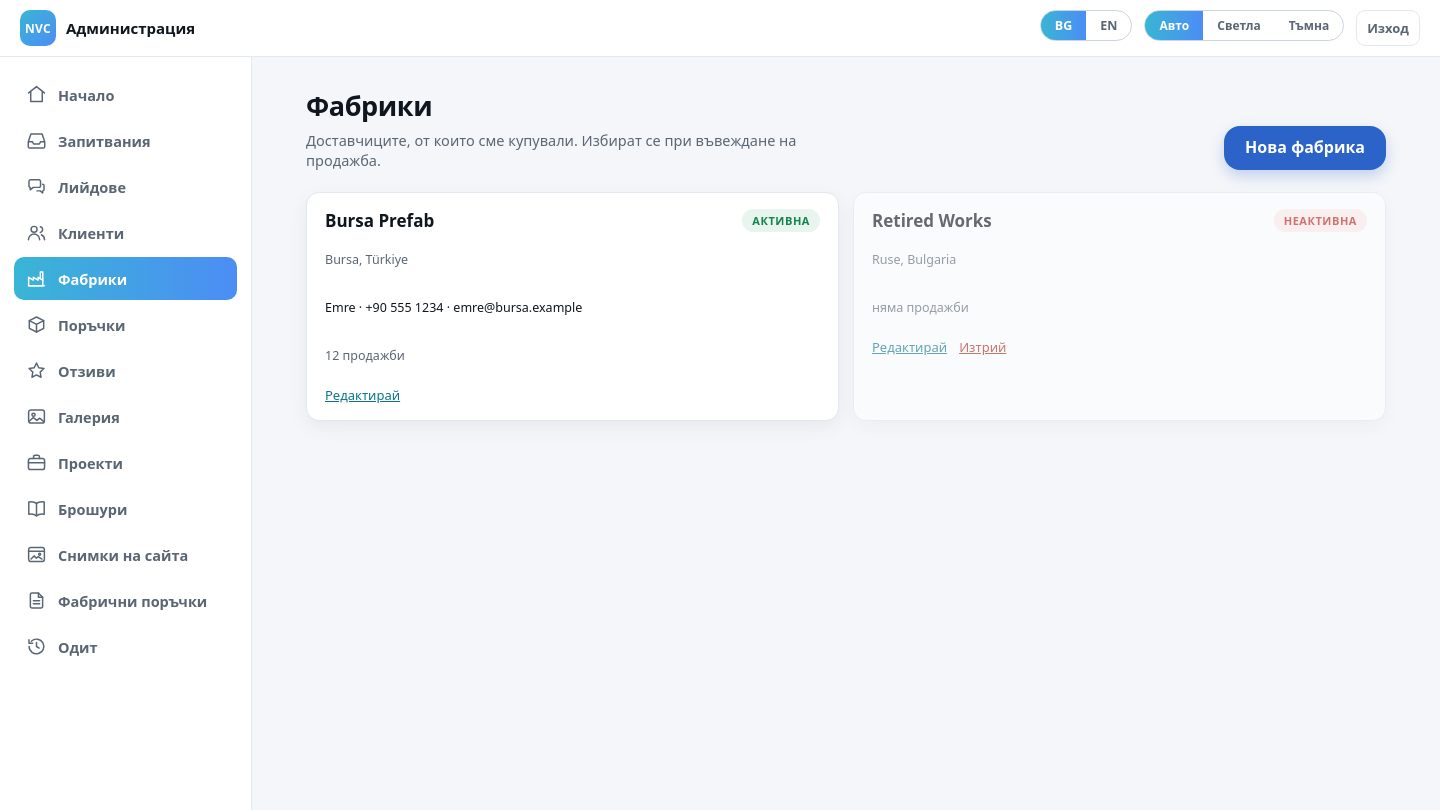
AdminFactoriesPage › a refused save keeps the editor, the typing and the reason
Expected: the heading "Bursa Prefab" is shown, top-left (325, 209), bottom-right (434, 232)
Click the button "Нова фабрика" at (1305, 148), box top-left (1224, 126), bottom-right (1386, 170)
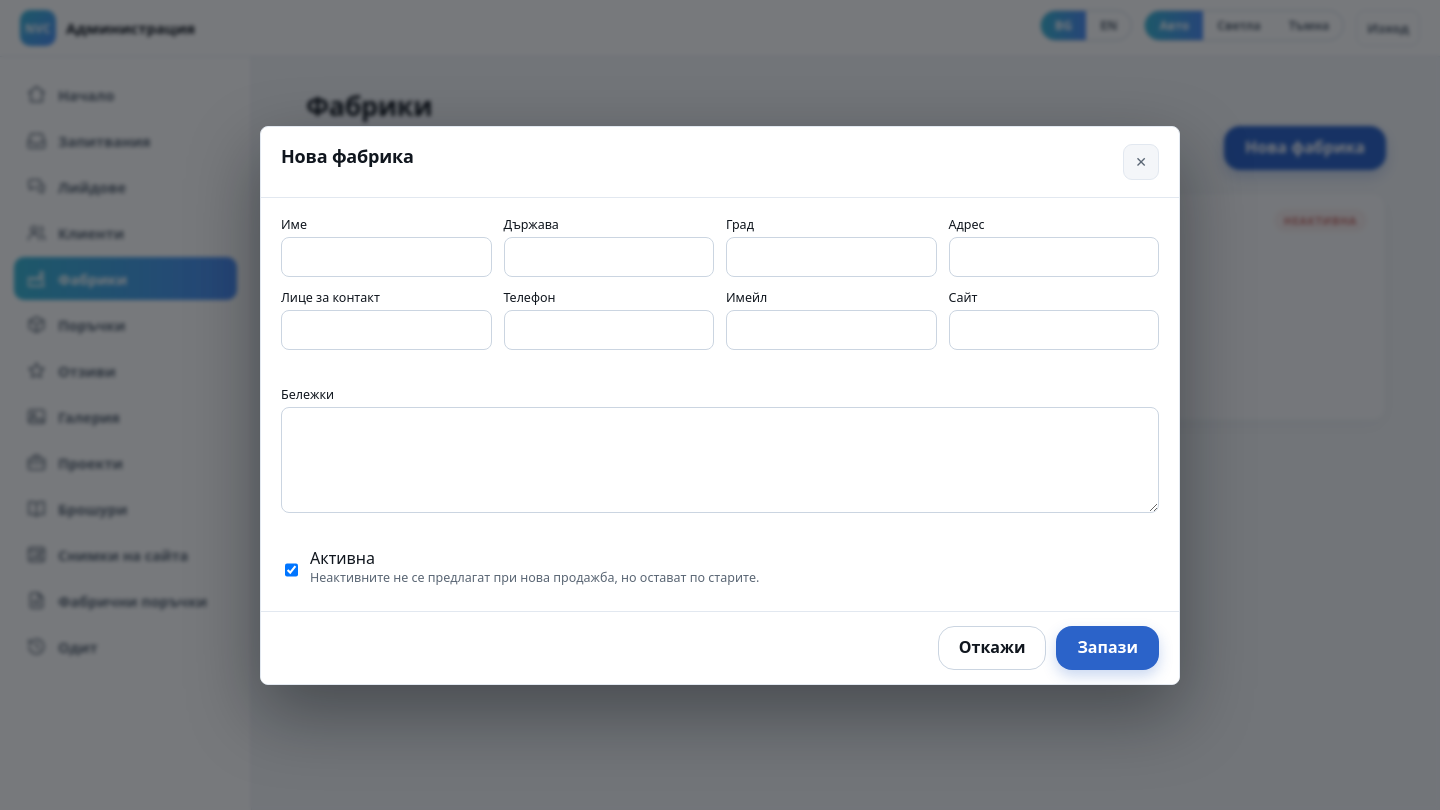
Type "Нова" into the field labelled "Име" at (386, 256), box top-left (281, 236), bottom-right (492, 276)
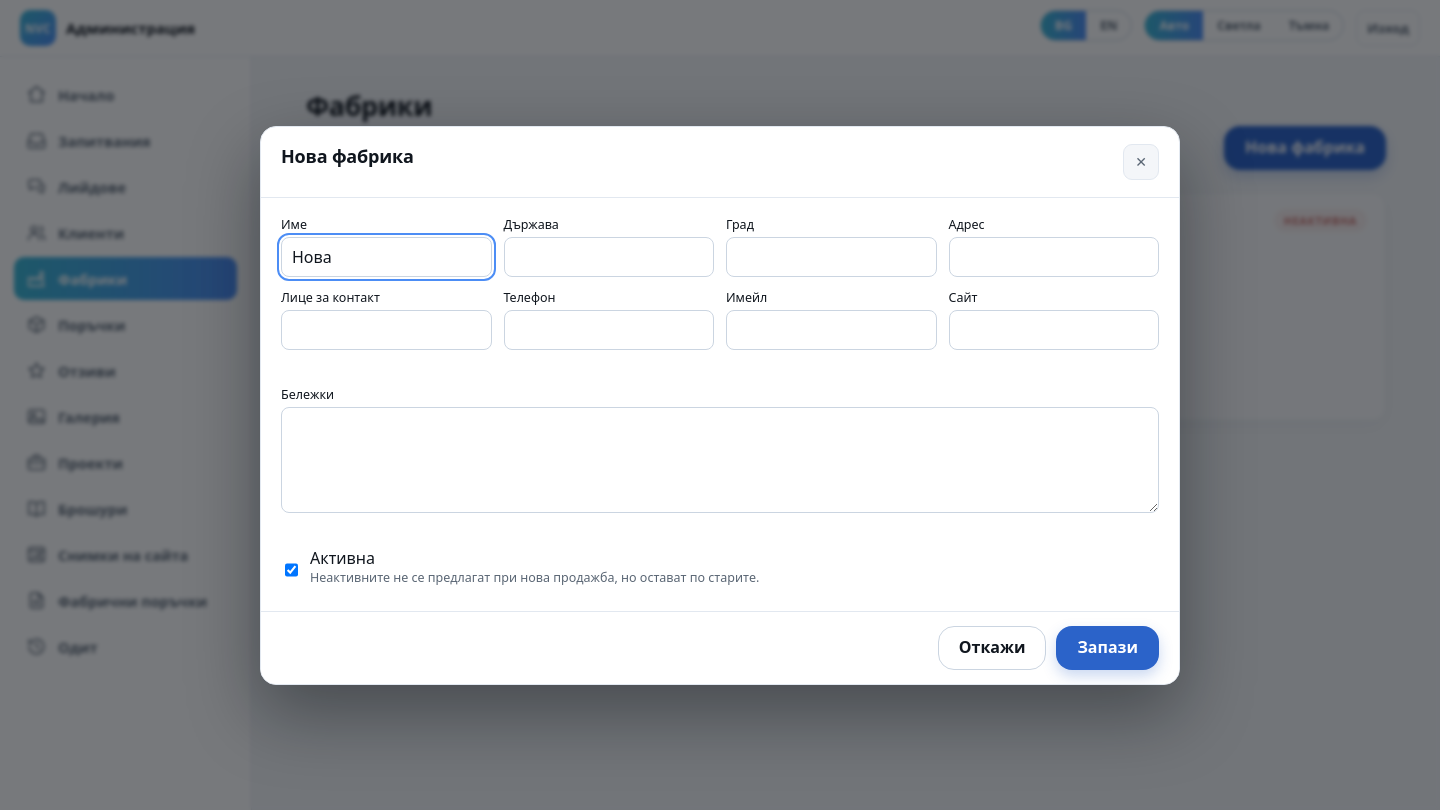
Type "Бурса" into the field labelled "Град" at (831, 256), box top-left (726, 236), bottom-right (936, 276)
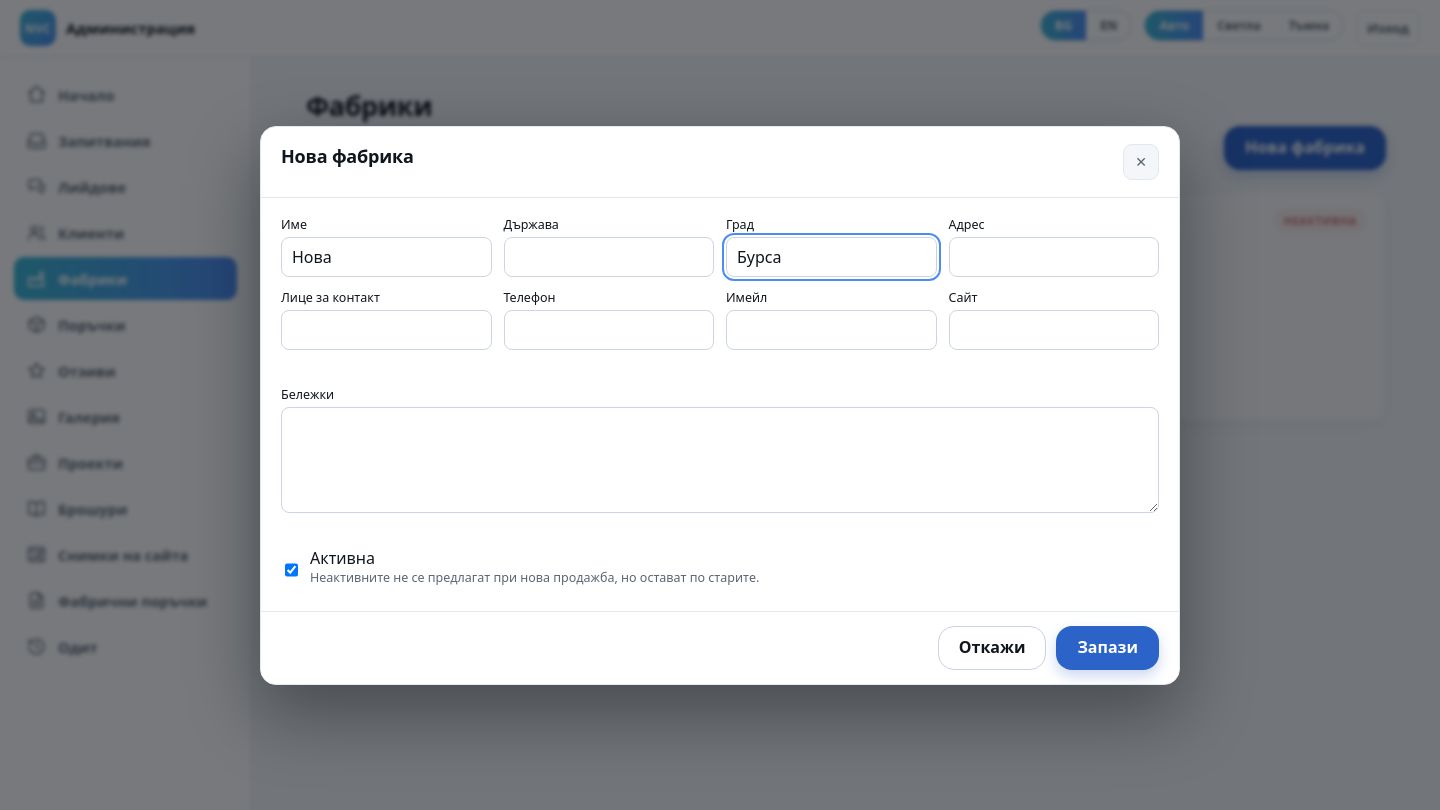
Click the button "Запази" at (1108, 648), box top-left (1056, 626), bottom-right (1159, 670)
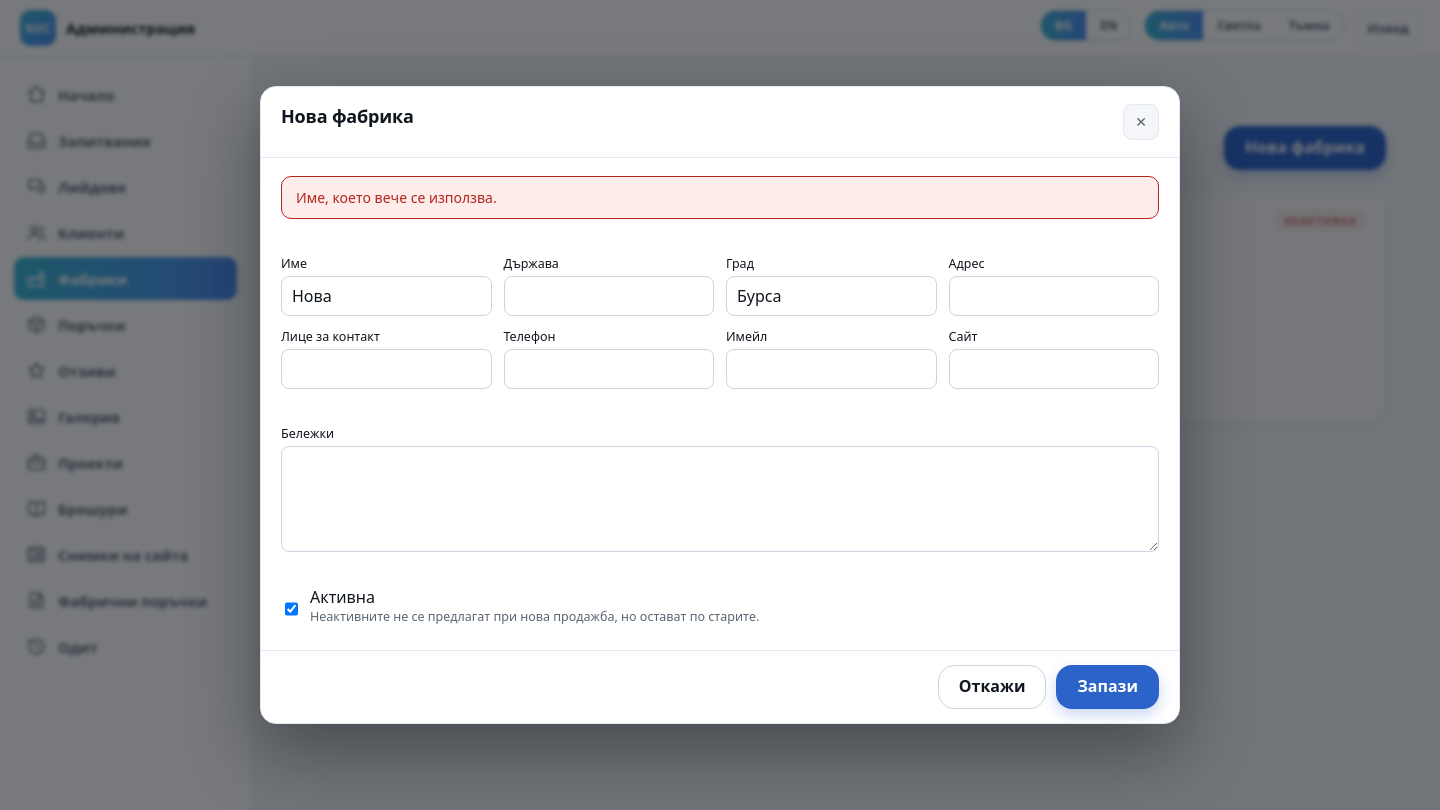
Expected: the dialog is shown
Expected: the message reads "Име, което вече се използва.", top-left (296, 188), bottom-right (497, 207)
